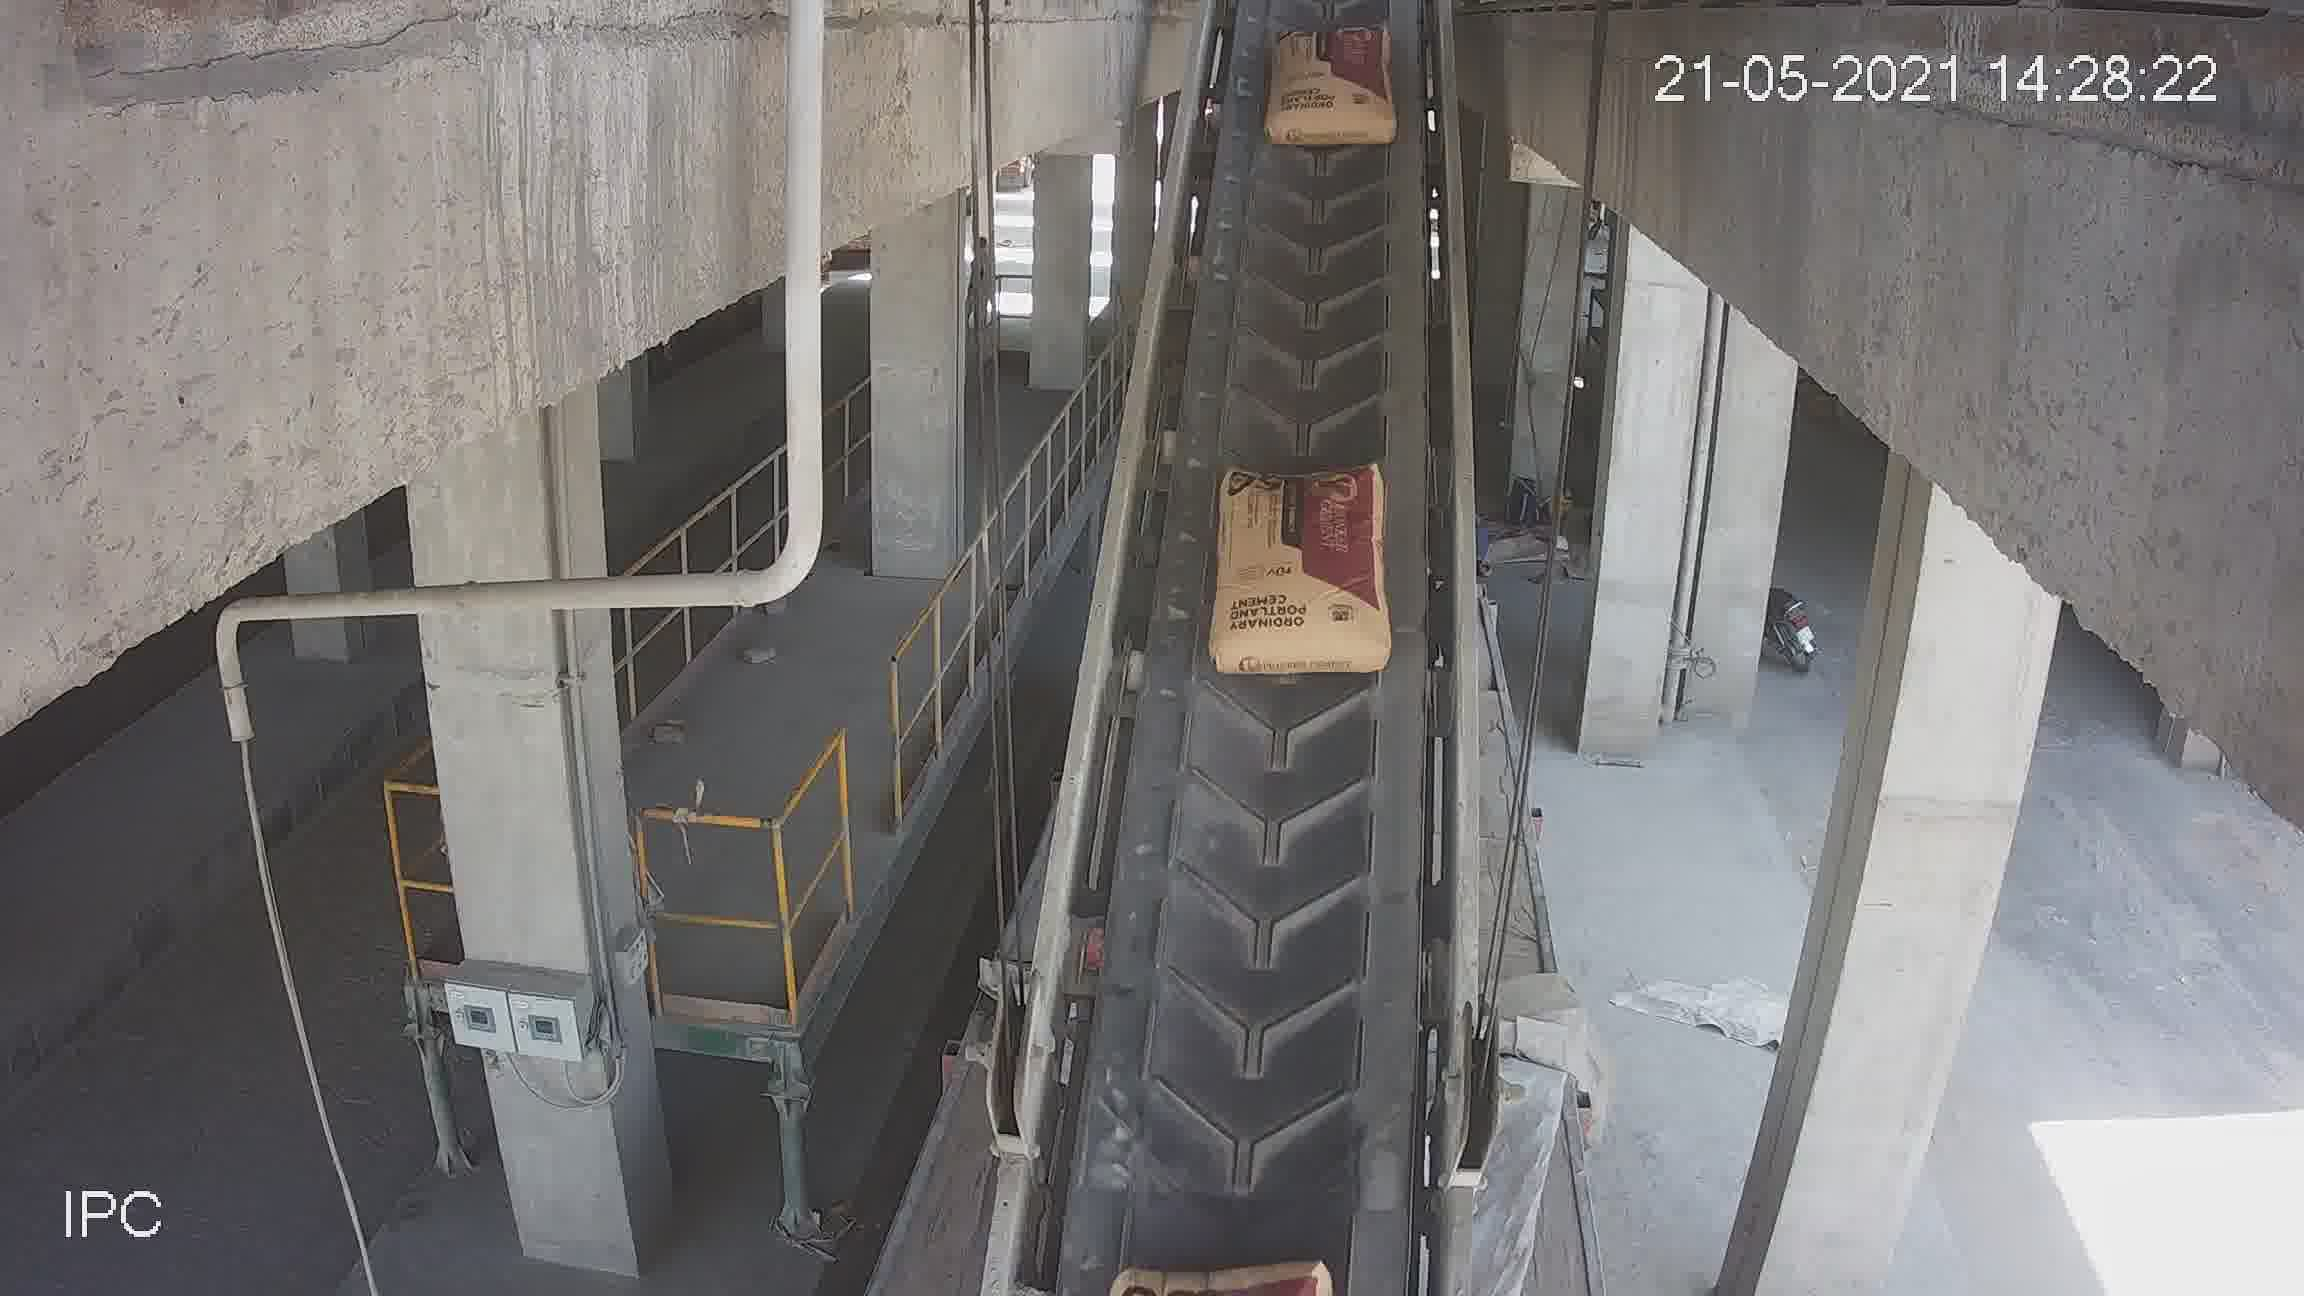bag: (1228, 472, 1393, 685), (1279, 32, 1386, 135)
belt: (1054, 14, 1516, 1268)
